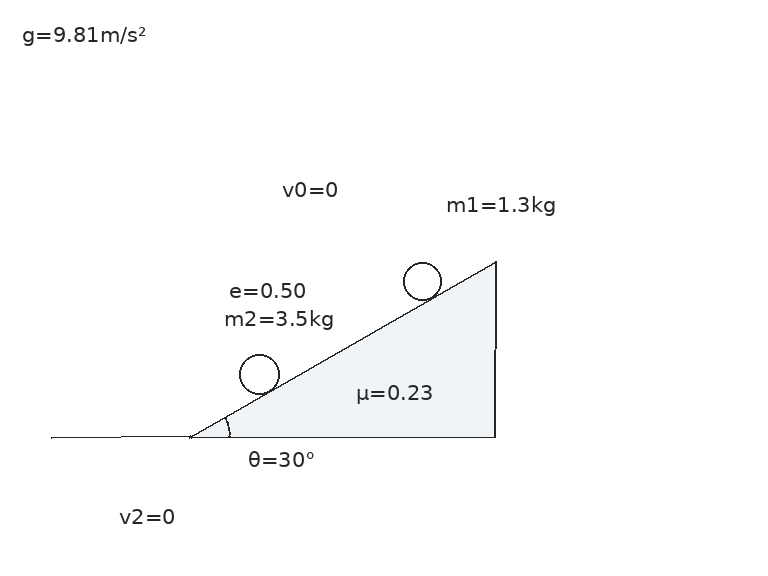ball: (237, 352, 281, 396), (401, 260, 443, 302)
ramp: (188, 260, 496, 439)
